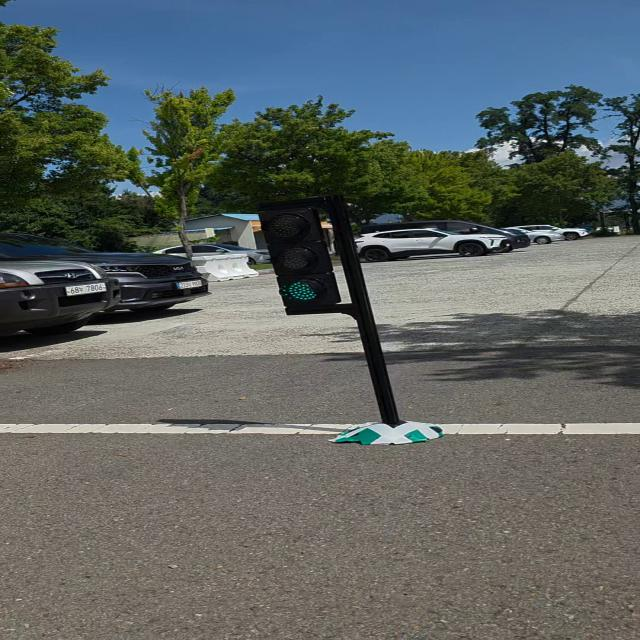green: (259, 203, 344, 314)
